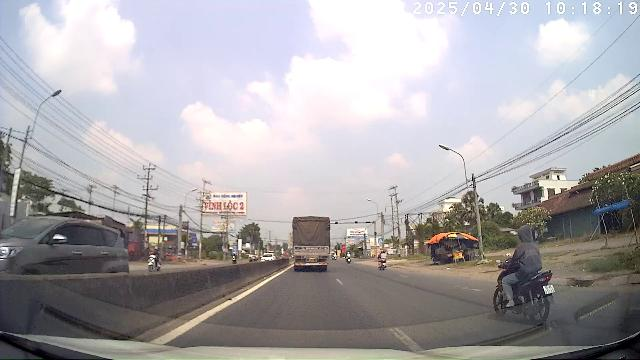423a-duong-nguoi-di-bo-sang-ngang-1: (378, 238, 383, 244)
